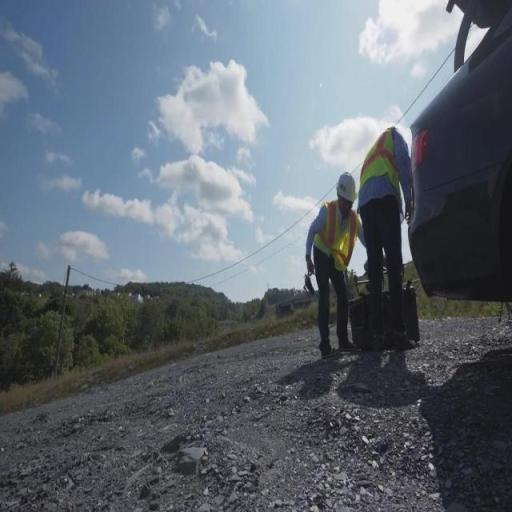helmet: (378, 96, 406, 140), (333, 166, 360, 208)
vest: (309, 198, 362, 280), (355, 126, 409, 204)
